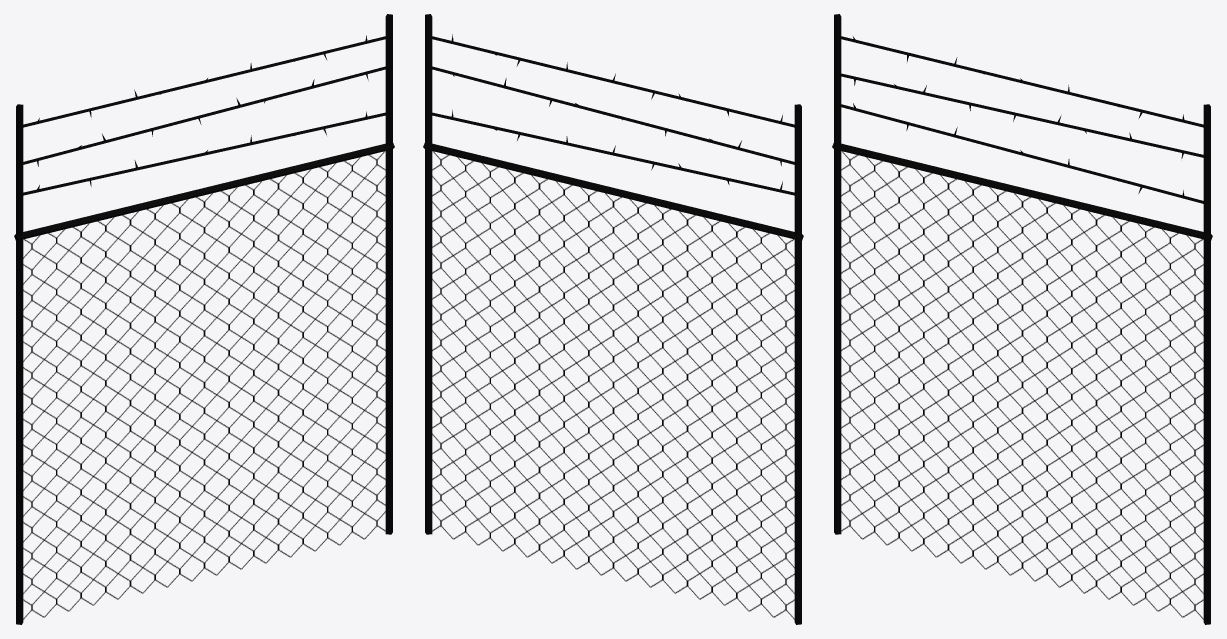
File: fence-metal-barbed-closed.glb
The picture shows the model from 3 angles, left to right: view 1: azimuth 30°, elevation 25°; view 2: azimuth 150°, elevation 25°; view 3: azimuth 330°, elevation 25°; orthographic projection.
Parts seen in each view (by area): view 1: fence.metal_barbed_closed; view 2: fence.metal_barbed_closed; view 3: fence.metal_barbed_closed.
Part boxes in pixels (bbox=[...]): fence.metal_barbed_closed: bbox=[14, 14, 394, 624]; fence.metal_barbed_closed: bbox=[423, 14, 803, 624]; fence.metal_barbed_closed: bbox=[832, 14, 1212, 624].
Bounding box in the file's own units: 2.04 × 2.68 × 0.069.
2 materials, 1 textured.
